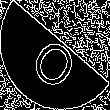O_NE: (26, 22, 84, 88)
